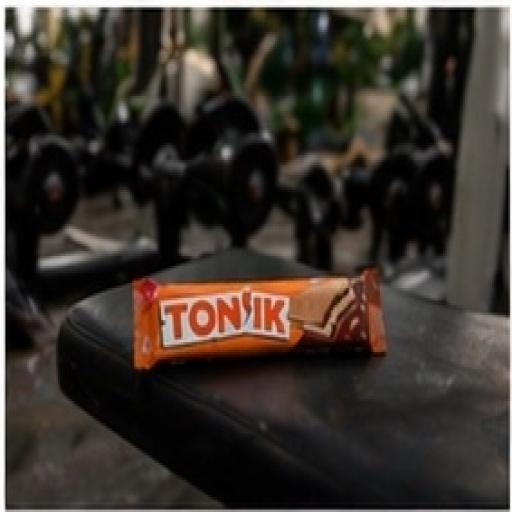tonik: (90, 178, 431, 463)
